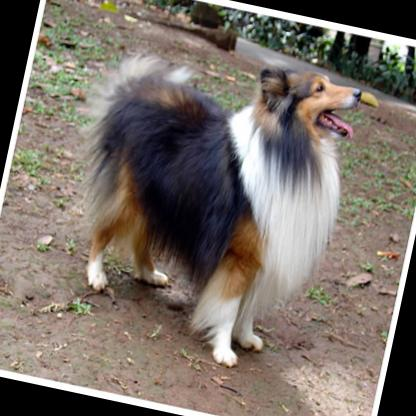Shetland_sheepdog: (34, 21, 379, 386)
